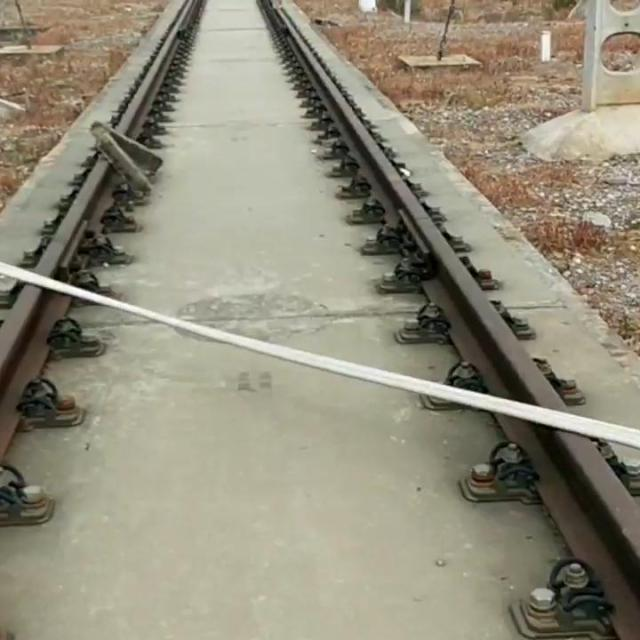danger: (94, 113, 170, 201)
rail: (277, 9, 565, 409), (499, 416, 640, 601), (0, 285, 69, 460), (36, 157, 110, 276)
